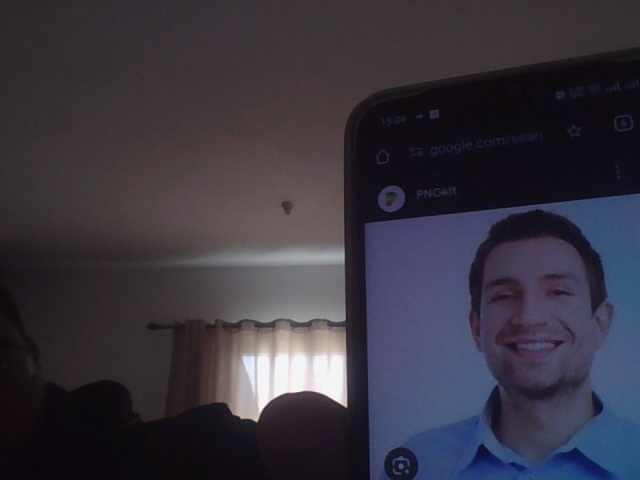fake: (467, 198, 609, 400)
